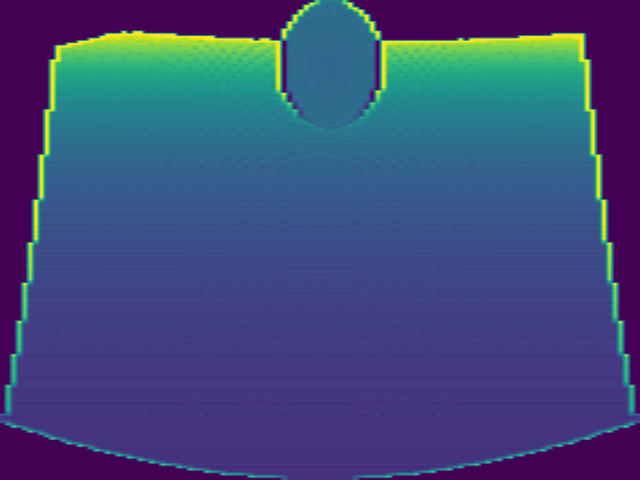sphere: (276, 3, 384, 126)
